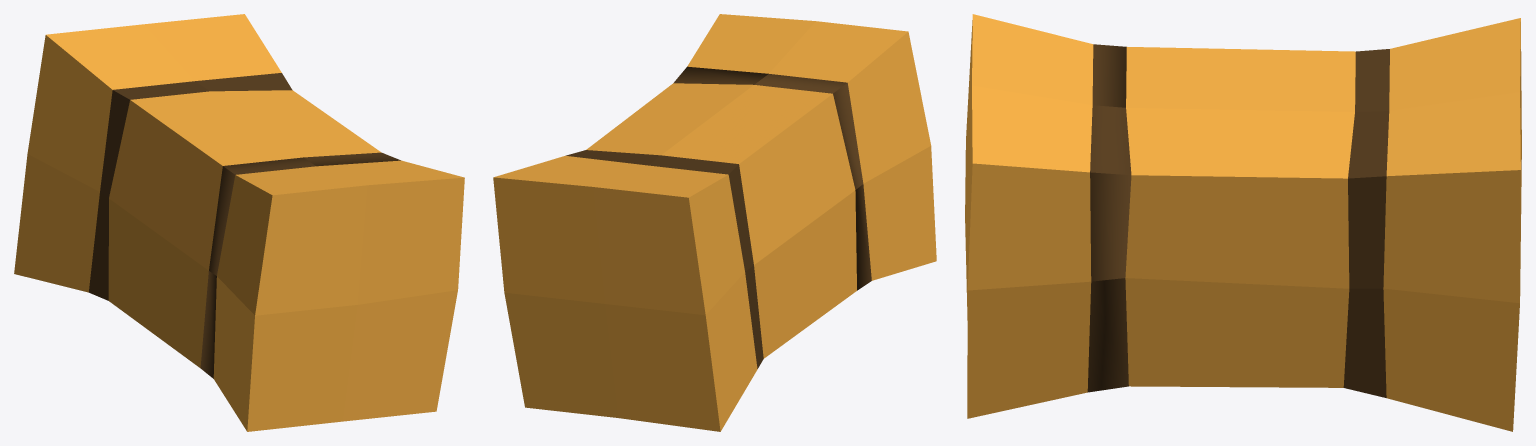
The model's file is hay_single.glb.
3 renders of one model, left to right at view 1: azimuth 30°, elevation 25°; view 2: azimuth 150°, elevation 25°; view 3: azimuth 270°, elevation 25°, orthographic. The views are drawn at different scales.
Parts seen in each view (by area): view 1: hay1.001; view 2: hay1.001; view 3: hay1.001.
Boxes of the visible parts, box(x1,y1,x2,y2) form: hay1.001: box(14, 14, 464, 431); hay1.001: box(493, 14, 936, 431); hay1.001: box(965, 14, 1521, 431).
Bounding box in the file's own units: 1.02 × 1.1 × 1.74.
